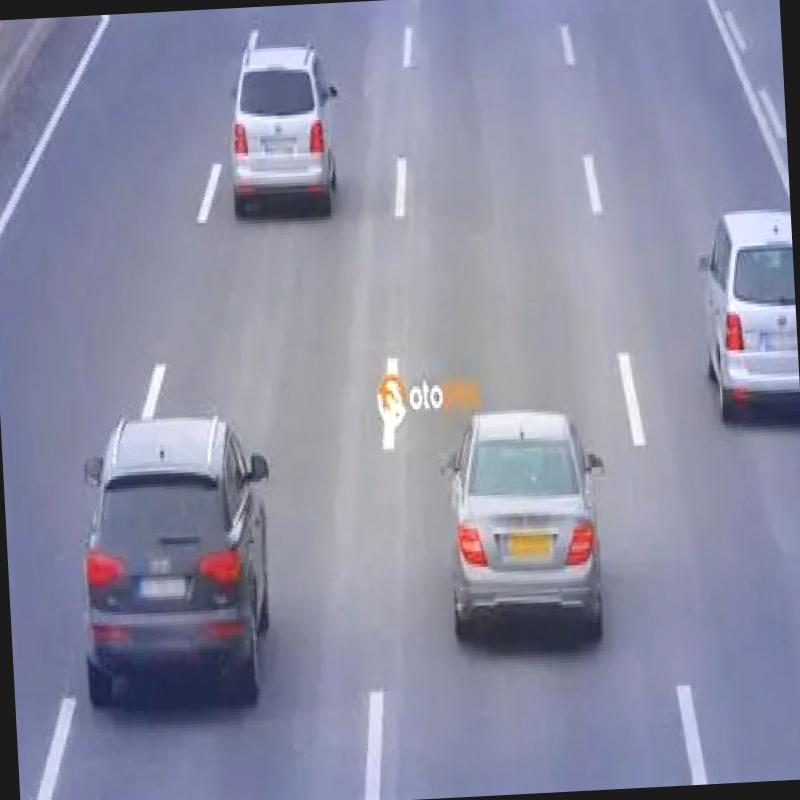license plate on a car: (506, 532, 554, 560), (138, 577, 187, 600), (761, 331, 797, 351), (262, 138, 293, 155)
